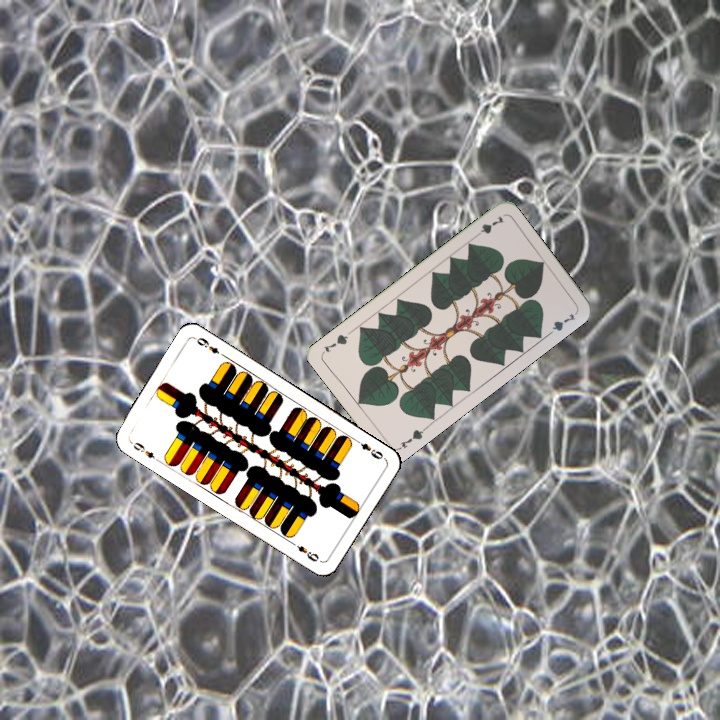E9: (126, 437, 162, 464), (351, 435, 386, 462)
G7: (469, 211, 507, 241), (394, 424, 429, 453)
